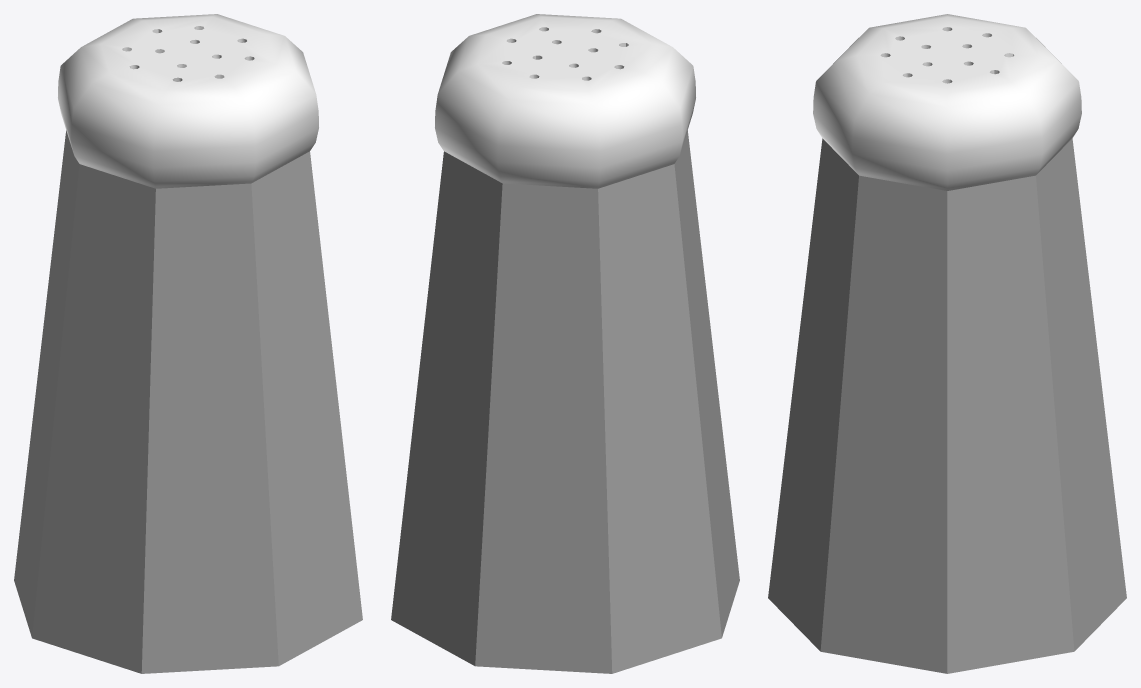
Rendered from salt.obj.
3 views of the same model, side by side, from view 1: azimuth 30°, elevation 25°; view 2: azimuth 150°, elevation 25°; view 3: azimuth 270°, elevation 25° (orthographic).
Visible parts, largest first — view 1: salt.001; view 2: salt.001; view 3: salt.001.
Boxes of the visible parts, left/top/right/bottom form: salt.001: left=14, top=14, right=362, bottom=673; salt.001: left=391, top=14, right=739, bottom=673; salt.001: left=768, top=14, right=1126, bottom=673.
Bounding box in the file's own units: 0.0545 × 0.0909 × 0.0545.
